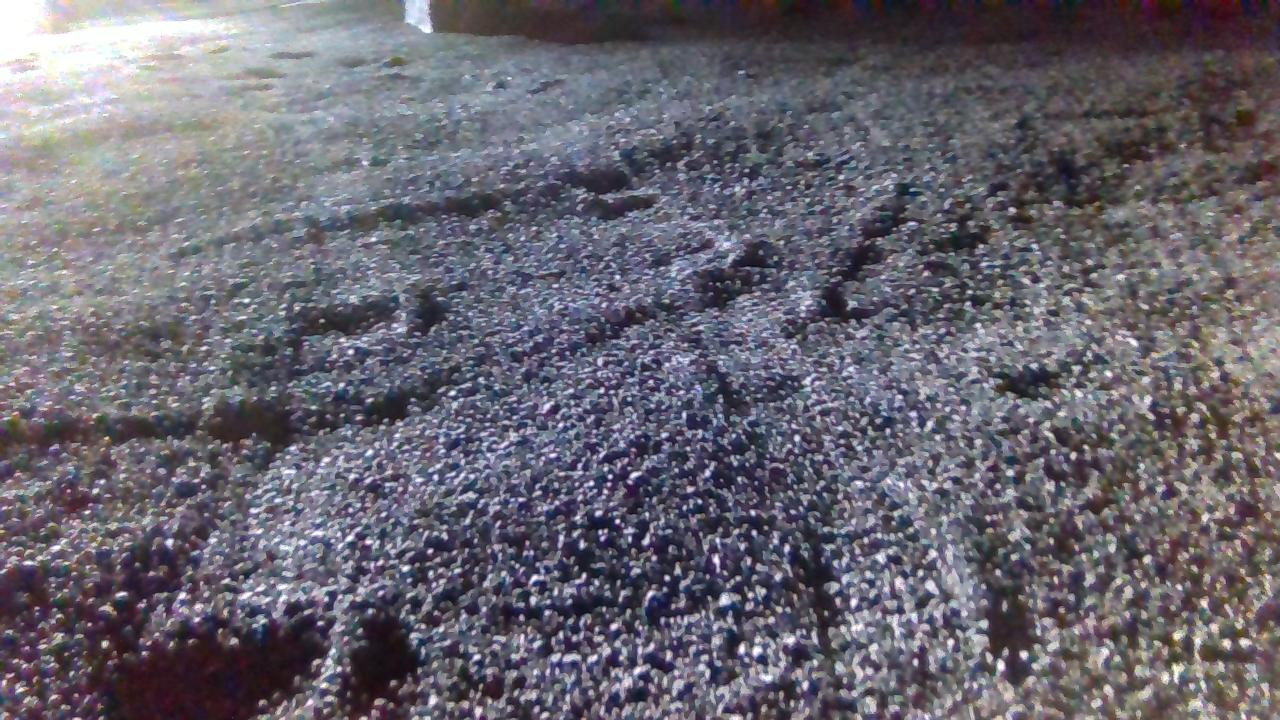rock: (405, 0, 432, 31)
